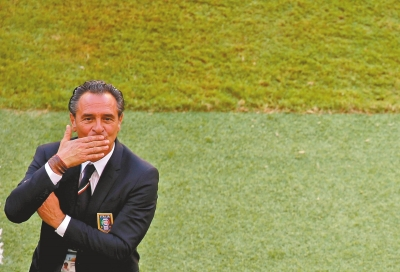face: (75, 95, 116, 151)
